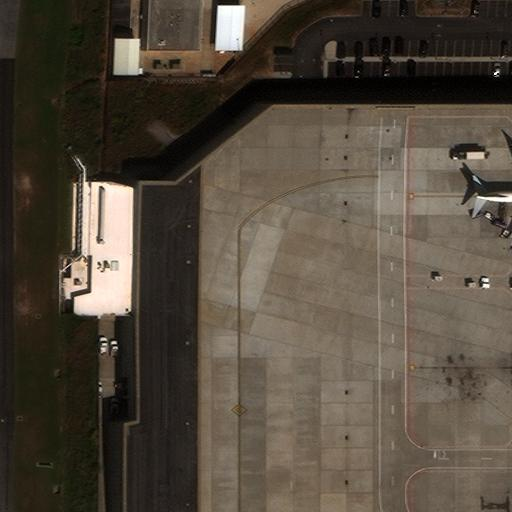Medium Civil Transport: (475, 153, 512, 242)
